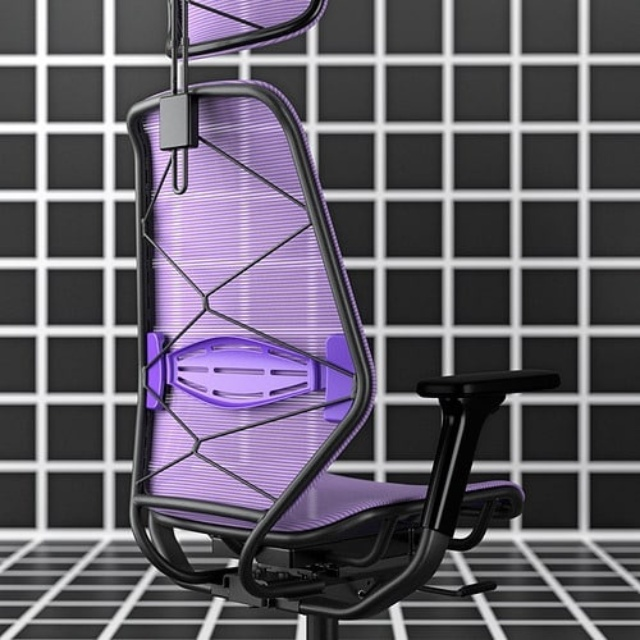obstacle: (128, 82, 372, 527), (238, 413, 481, 639), (374, 270, 513, 366), (326, 128, 509, 189)
